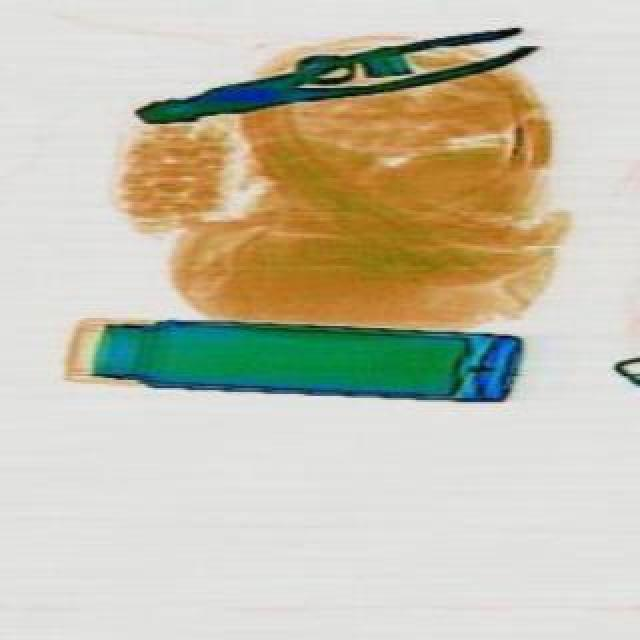wrench: (126, 16, 536, 138)
